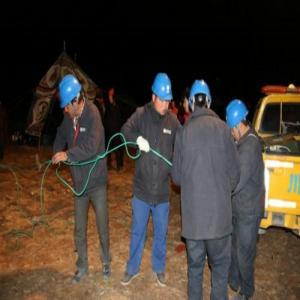blue: (57, 75, 85, 120), (226, 97, 251, 144), (152, 70, 174, 118), (190, 80, 214, 117)
